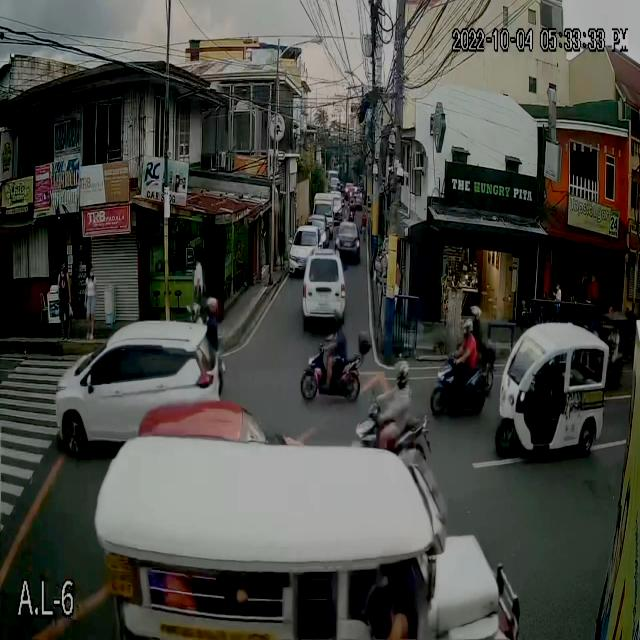Full-Faced: (392, 357, 409, 388), (330, 306, 346, 338), (458, 316, 474, 347), (467, 302, 482, 331), (203, 295, 218, 320)
